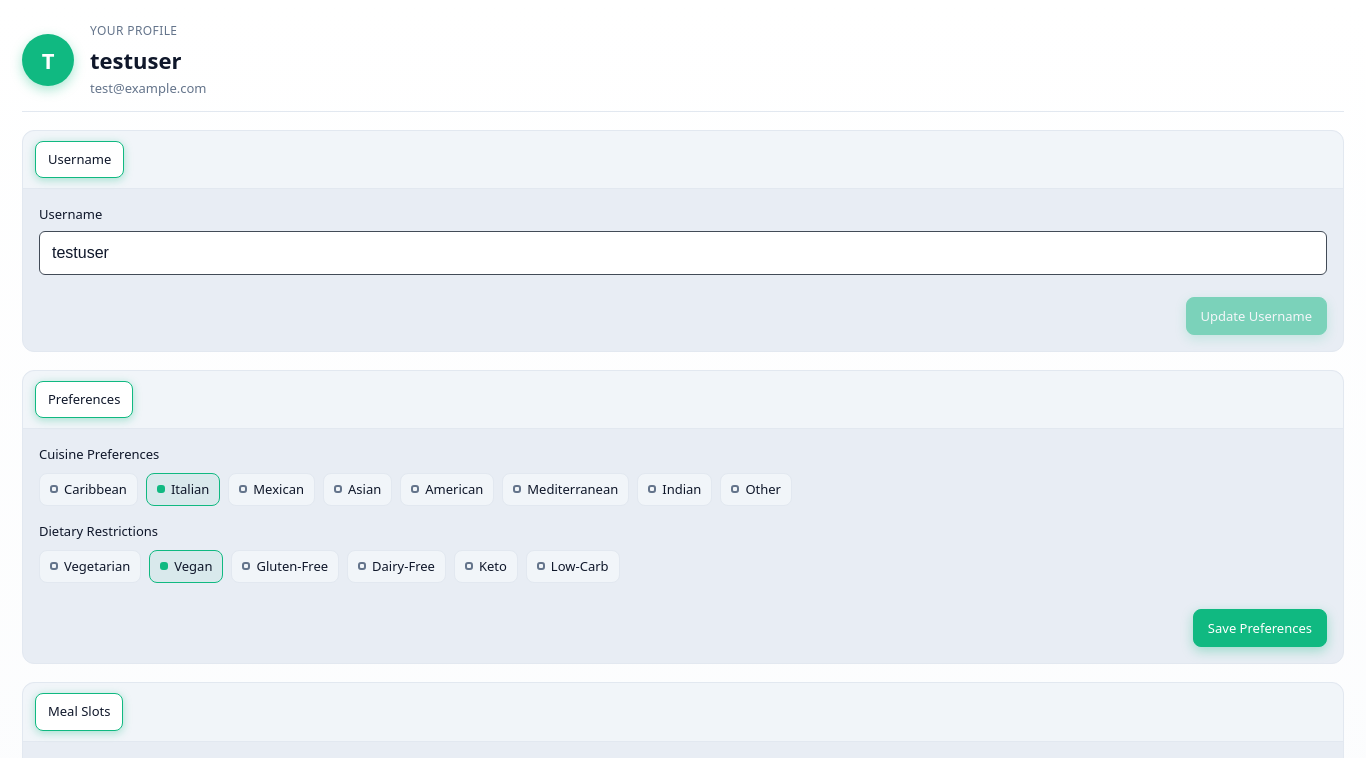
Test: Profile › username form › shows a success message after a successful username update
Replace the text in the field showing "testuser" with "newusername": (683,252) [39,230,1327,274]
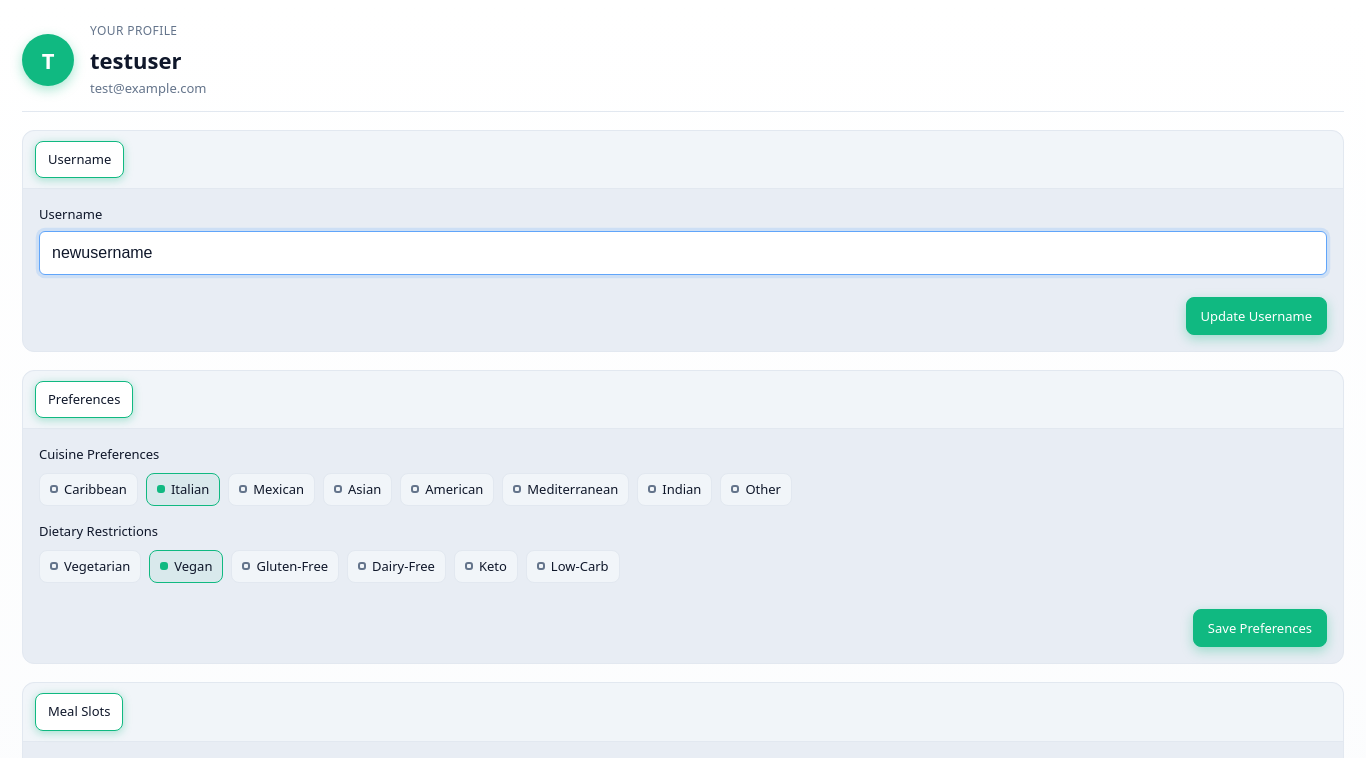
Click the button "Update Username": (1256,316) [1186,296,1327,334]
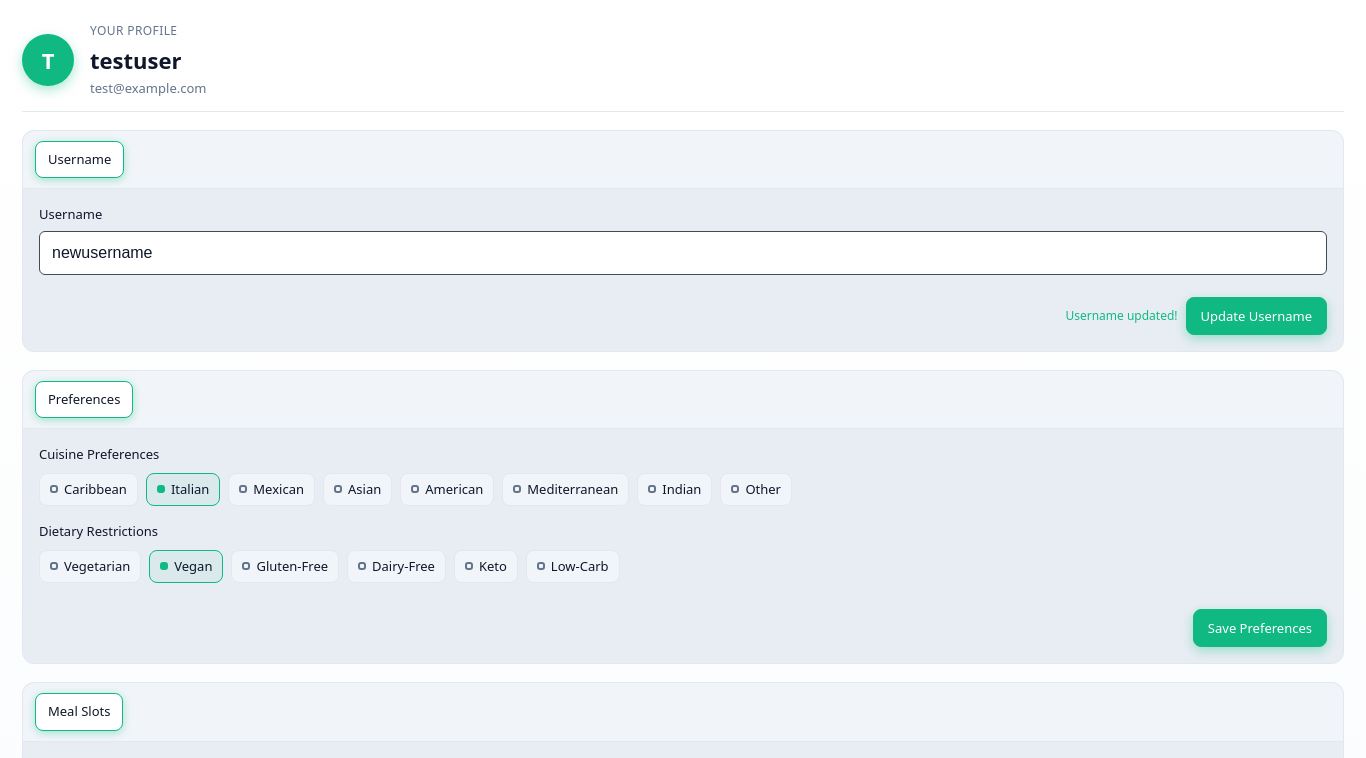
Now the text "Username updated!" is shown, box [1065,306,1178,324]
